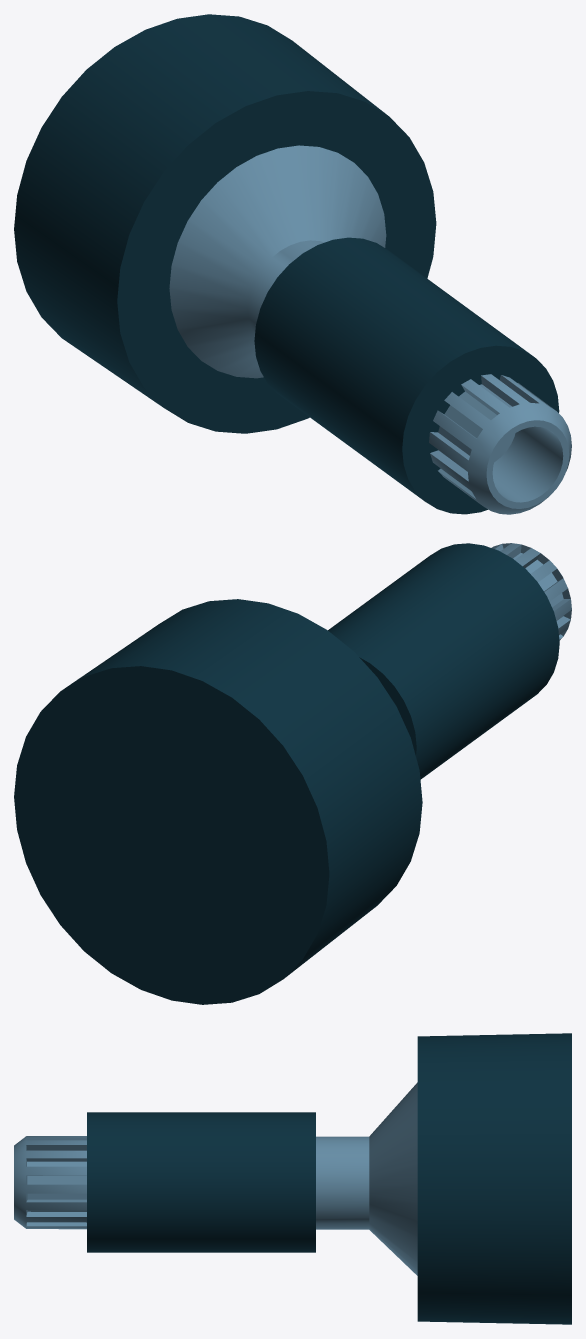
Rendered from Turret.fbx.
3 renders of one model, top to bottom at view 1: azimuth 30°, elevation 25°; view 2: azimuth 150°, elevation 25°; view 3: azimuth 270°, elevation 25°, orthographic. The views are drawn at different scales.
Parts seen in each view (by area): view 1: Cylinder; view 2: Cylinder; view 3: Cylinder.
Part boxes in pixels (bbox=[...]): Cylinder: bbox=[14, 14, 571, 514]; Cylinder: bbox=[14, 543, 571, 1004]; Cylinder: bbox=[14, 1033, 571, 1324].
Bounding box in the file's own units: 134 × 134 × 257.
